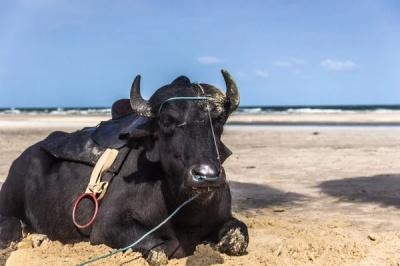buffalo: (0, 70, 248, 259)
